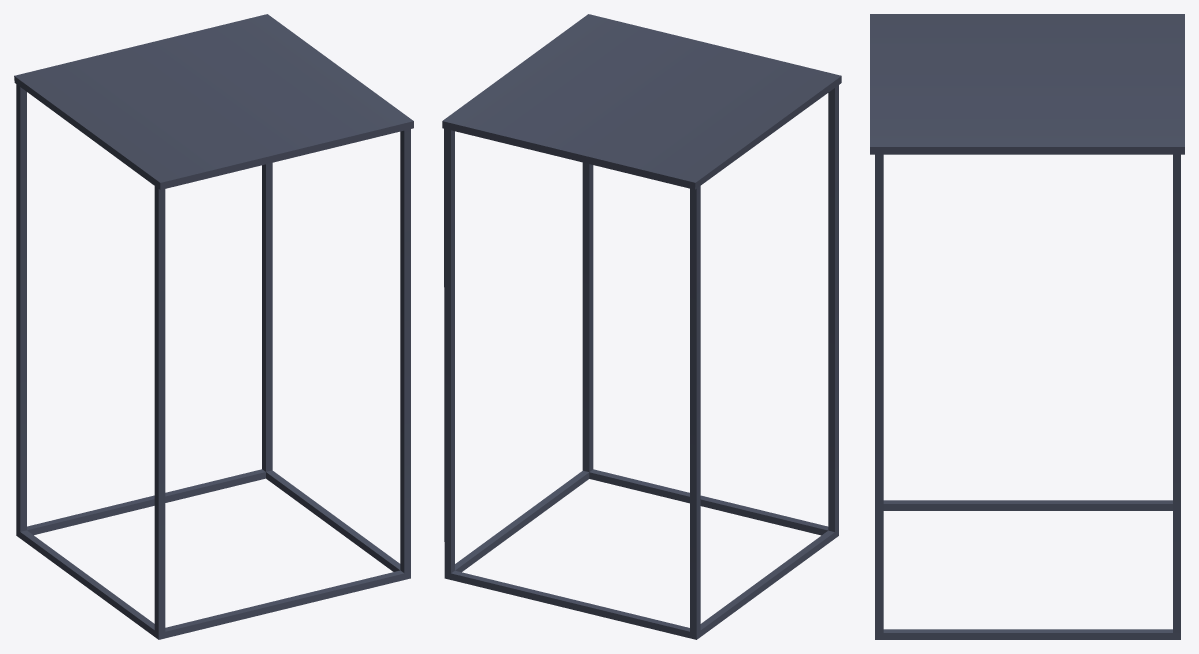
File: squidgame_props_stairlanding1.fbx
3 renders of one model, left to right at view 1: azimuth 30°, elevation 25°; view 2: azimuth 150°, elevation 25°; view 3: azimuth 270°, elevation 25°, orthographic. The views are drawn at different scales.
Visible parts, largest first — view 1: squidgame_props_stairlanding1; view 2: squidgame_props_stairlanding1; view 3: squidgame_props_stairlanding1.
Part boxes in pixels (left/top/right/bottom): squidgame_props_stairlanding1: left=14, top=14, right=413, bottom=639; squidgame_props_stairlanding1: left=442, top=14, right=841, bottom=639; squidgame_props_stairlanding1: left=870, top=14, right=1184, bottom=639.
Bounding box in the file's own units: 1.11 × 1.93 × 1.11.
